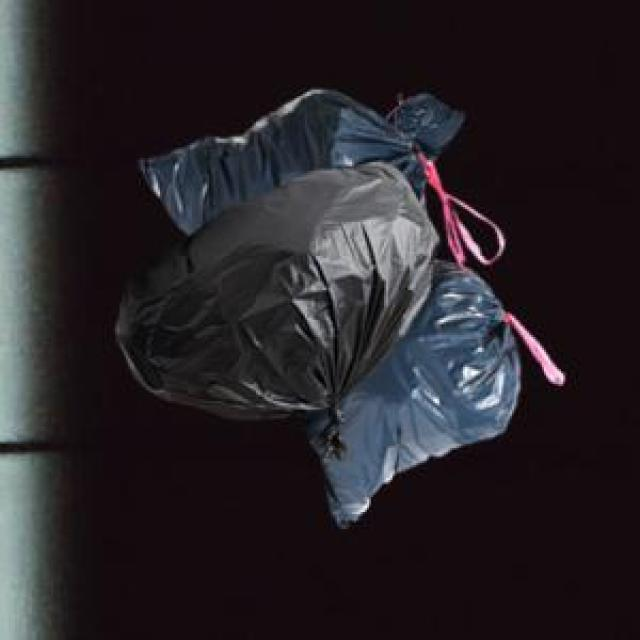waste: (116, 89, 519, 526)
